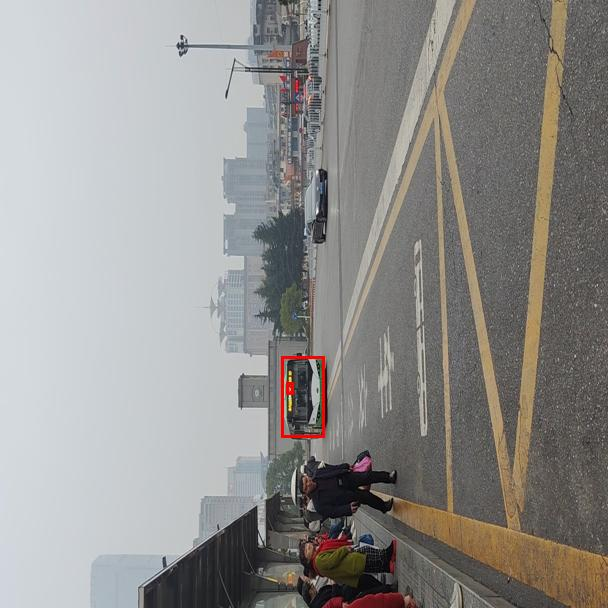bus: (281, 356, 324, 437)
screen: (286, 382, 293, 394)
